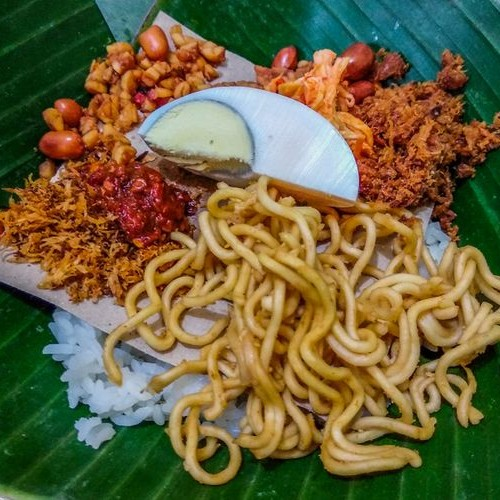nasi jinggo: (21, 18, 499, 471)
